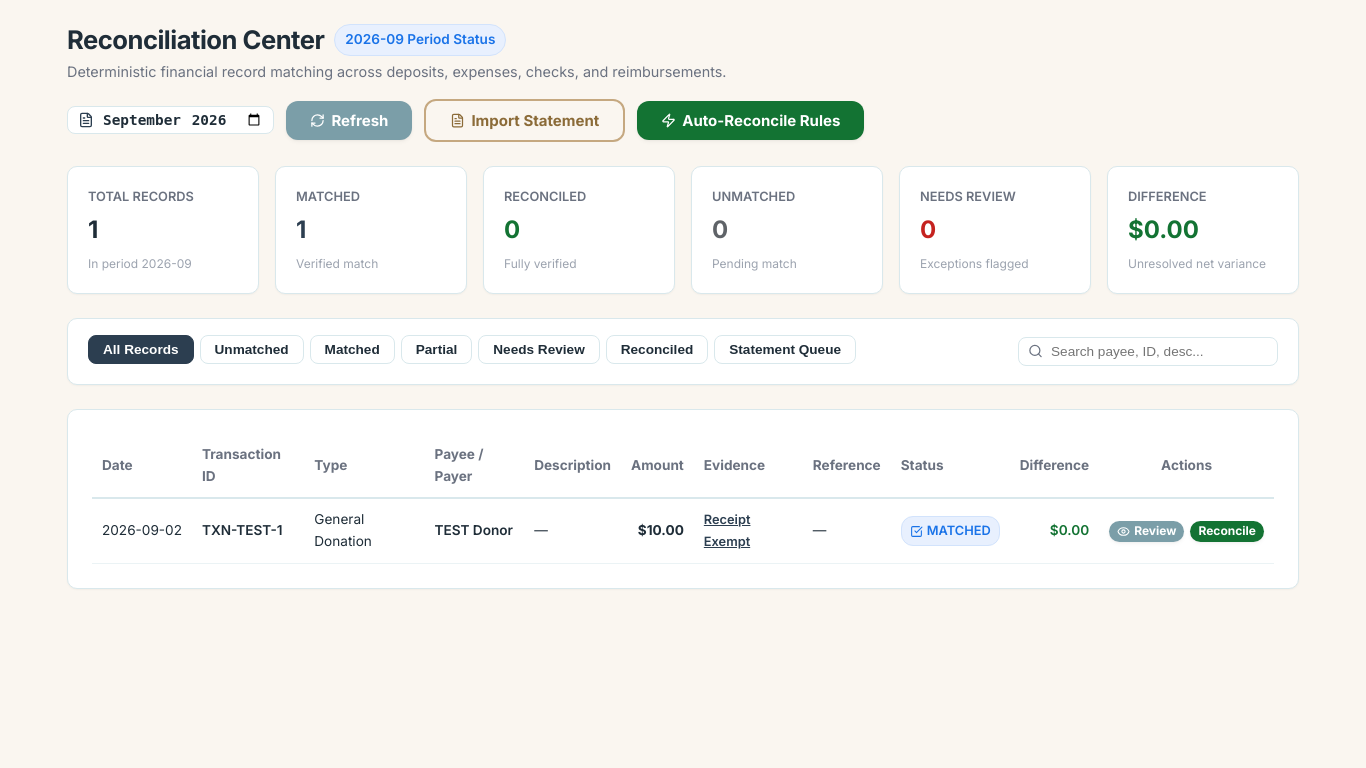
Test: Reconciliation UI Page & Modal Button Rendering Suite › renders visible enabled Reconcile button when status is MATCHED and rules are satisfied
Expected: the text "TXN-TEST-1" is shown, [192,498,304,563]
Open Review Modal
Click the button "Review" at x=1147, y=531, box [1109,521,1184,542]
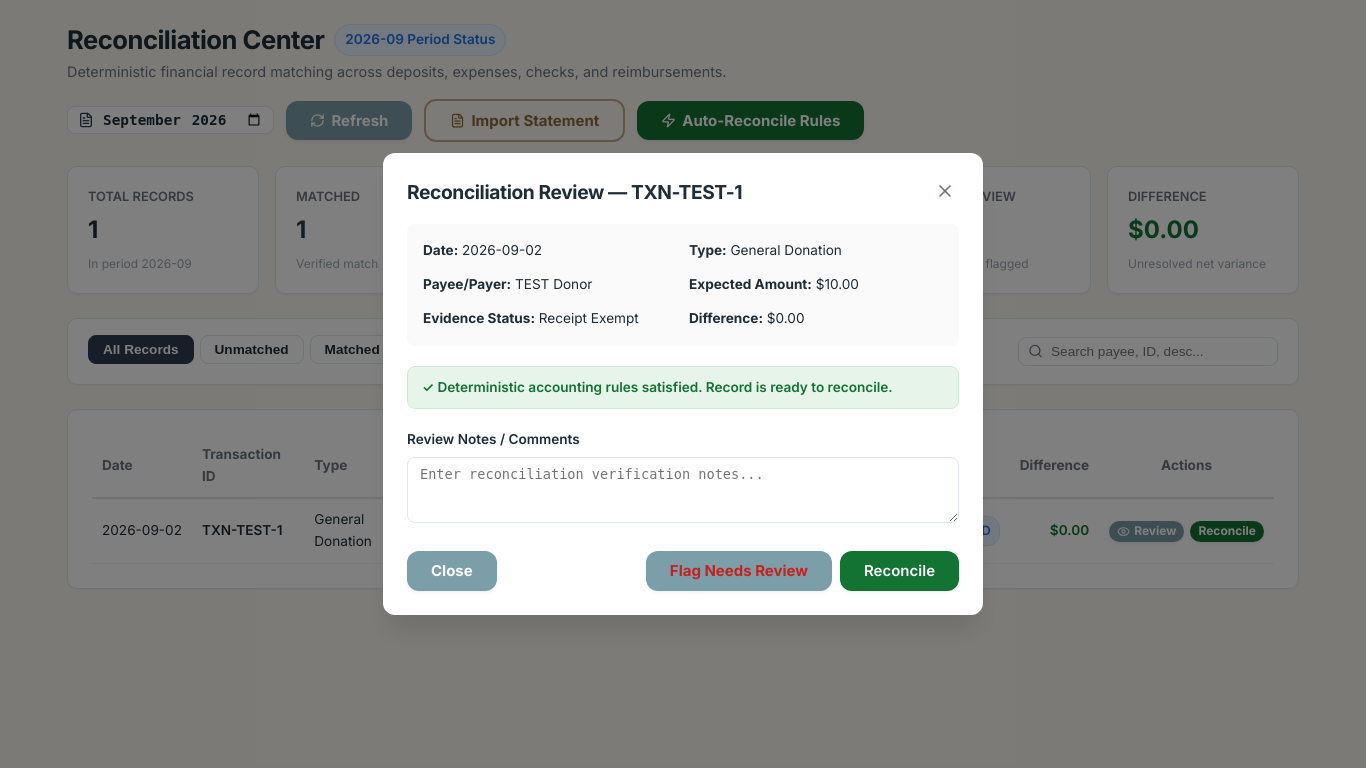
Expected: the button "Reconcile" below "Actions" is shown, [1190,521,1264,542]
Expected: the text "Deterministic accounting rules satisfied" is shown, [422,379,893,395]
Expected: the button "Reconcile" is enabled, [840,551,959,591]
